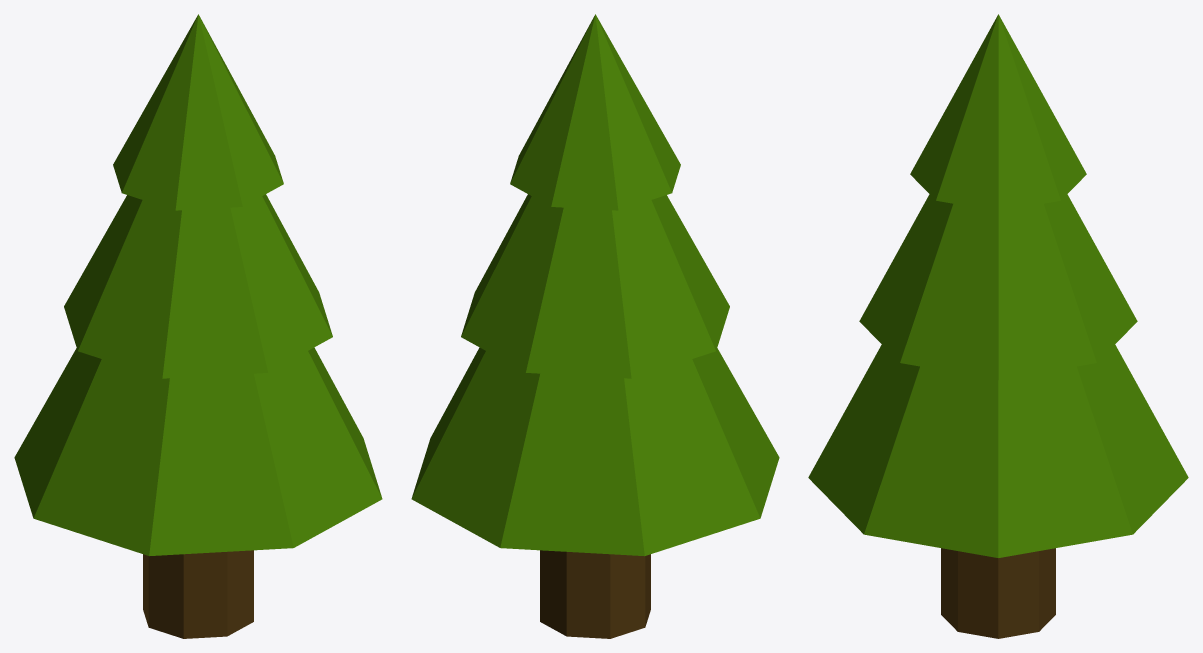
File: CartoonTree.gltf
3 renders of one model, left to right at view 1: azimuth 30°, elevation 25°; view 2: azimuth 150°, elevation 25°; view 3: azimuth 270°, elevation 25°, orthographic.
Visible parts, largest first — view 1: Cone, Cone.001, Cone.002, Cylinder; view 2: Cone, Cone.001, Cone.002, Cylinder; view 3: Cone, Cone.001, Cone.002, Cylinder.
Boxes of the visible parts, left/top/right/bottom form: Cone: left=14, top=347, right=382, bottom=556; Cone.001: left=64, top=194, right=332, bottom=378; Cone.002: left=113, top=14, right=283, bottom=210; Cylinder: left=143, top=550, right=253, bottom=638; Cone: left=411, top=347, right=779, bottom=556; Cone.001: left=461, top=194, right=729, bottom=378; Cone.002: left=510, top=14, right=680, bottom=210; Cylinder: left=540, top=550, right=650, bottom=638; Cone: left=808, top=344, right=1188, bottom=557; Cone.001: left=859, top=194, right=1137, bottom=380; Cone.002: left=910, top=14, right=1086, bottom=211; Cylinder: left=941, top=548, right=1055, bottom=638.
Size of the model in its own units: 4.17 by 7.27 by 4.17.
